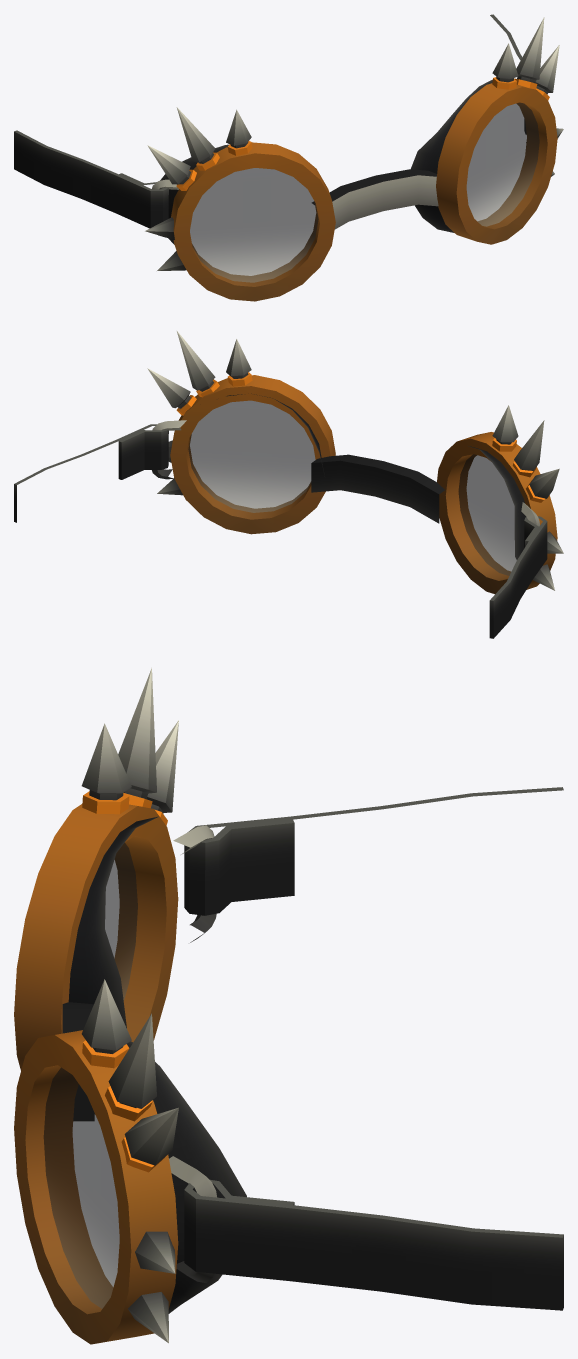
Rendered from Glasses_Spiky_Punky.gltf.
3 views of the same model, one above another, from view 1: azimuth 30°, elevation 25°; view 2: azimuth 150°, elevation 25°; view 3: azimuth 270°, elevation 25° (orthographic). The views are drawn at different scales.
Visible parts, largest first — view 1: Glasses_Spiky_Punky; view 2: Glasses_Spiky_Punky; view 3: Glasses_Spiky_Punky.
Boxes of the visible parts, box(x1,y1,x2,y2) form: Glasses_Spiky_Punky: box(14, 14, 563, 301); Glasses_Spiky_Punky: box(14, 331, 563, 638); Glasses_Spiky_Punky: box(14, 668, 563, 1344).
Size of the model in its own units: 0.9583 by 0.3706 by 0.4943.
3 materials, 3 textured.
